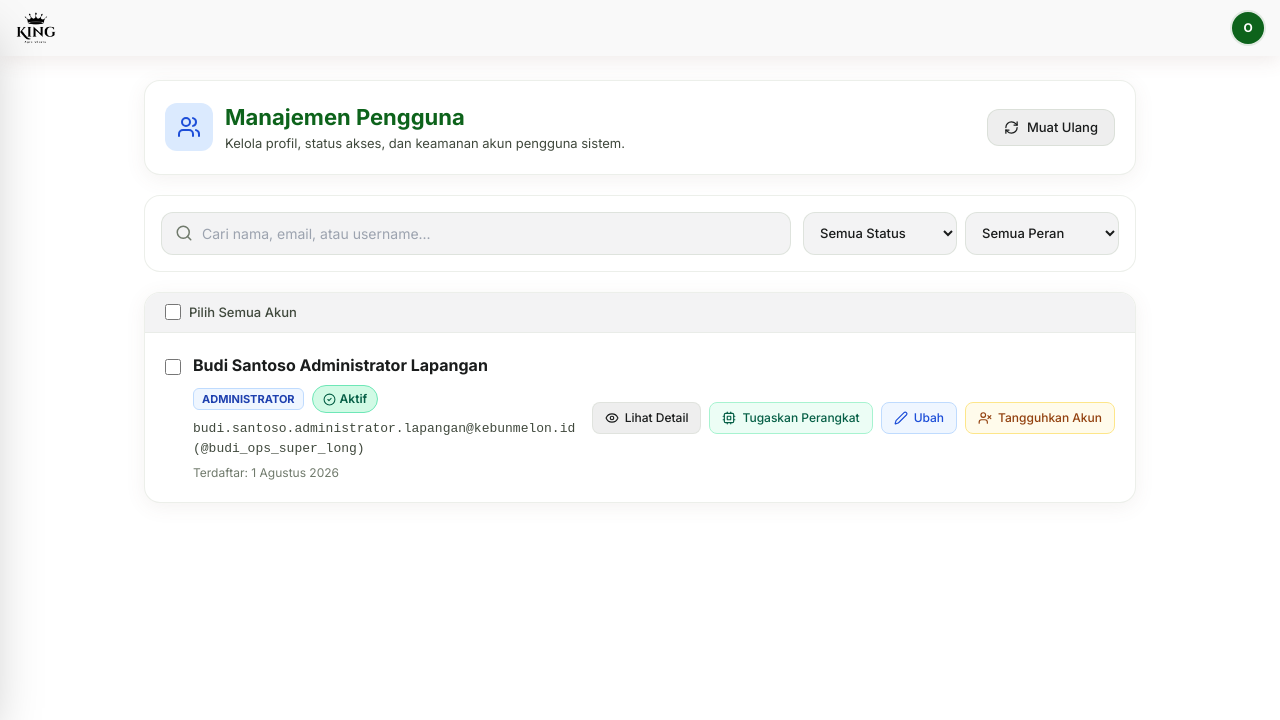
it: User Management Mobile Responsive Layout › 3. renders Manage Admin Devices modal with responsive padding, scroll bounds, and stacked assignment controls
The image size is (1280, 720).
Expected: the heading "Budi Santoso Administrator Lapangan" is shown, [193,353,488,377]
Click the button "Tugaskan Perangkat" at x=791, y=418, box [710,402,873,434]
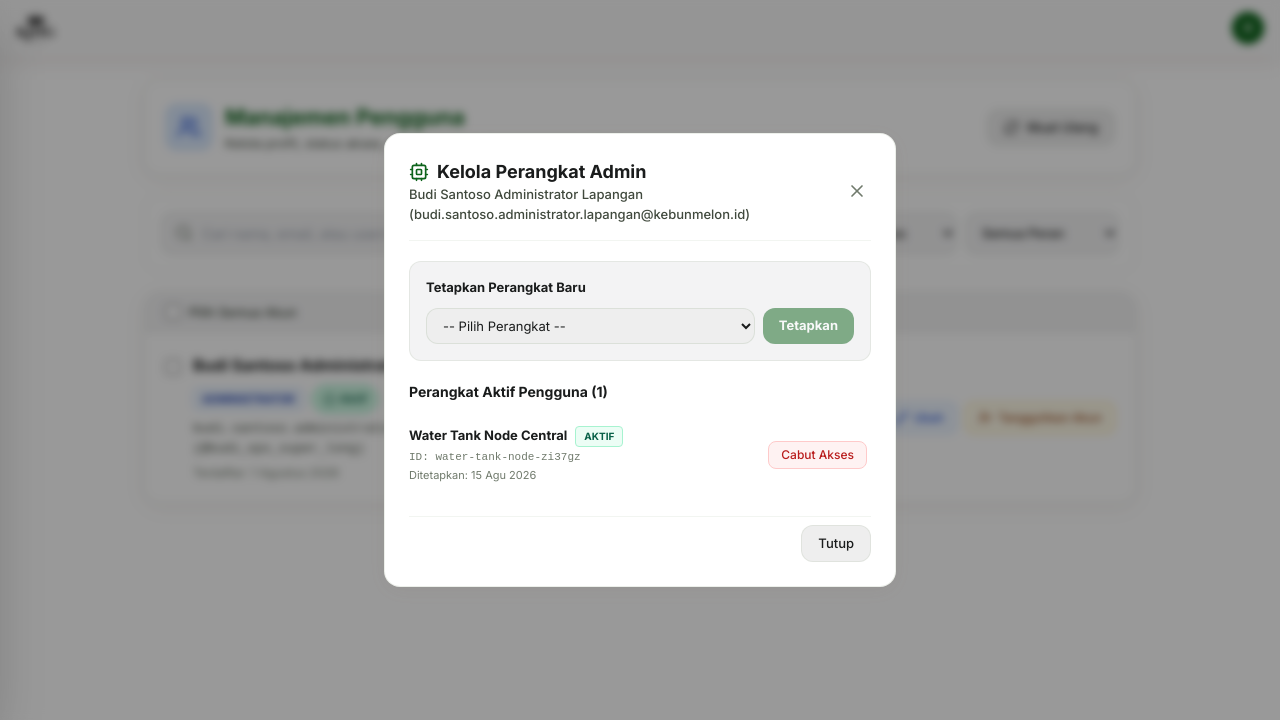
Expected: the text "Kelola Perangkat Admin" is shown, [437,158,646,185]
Expected: the text "Water Tank Node Central" is shown, [409,426,567,446]
